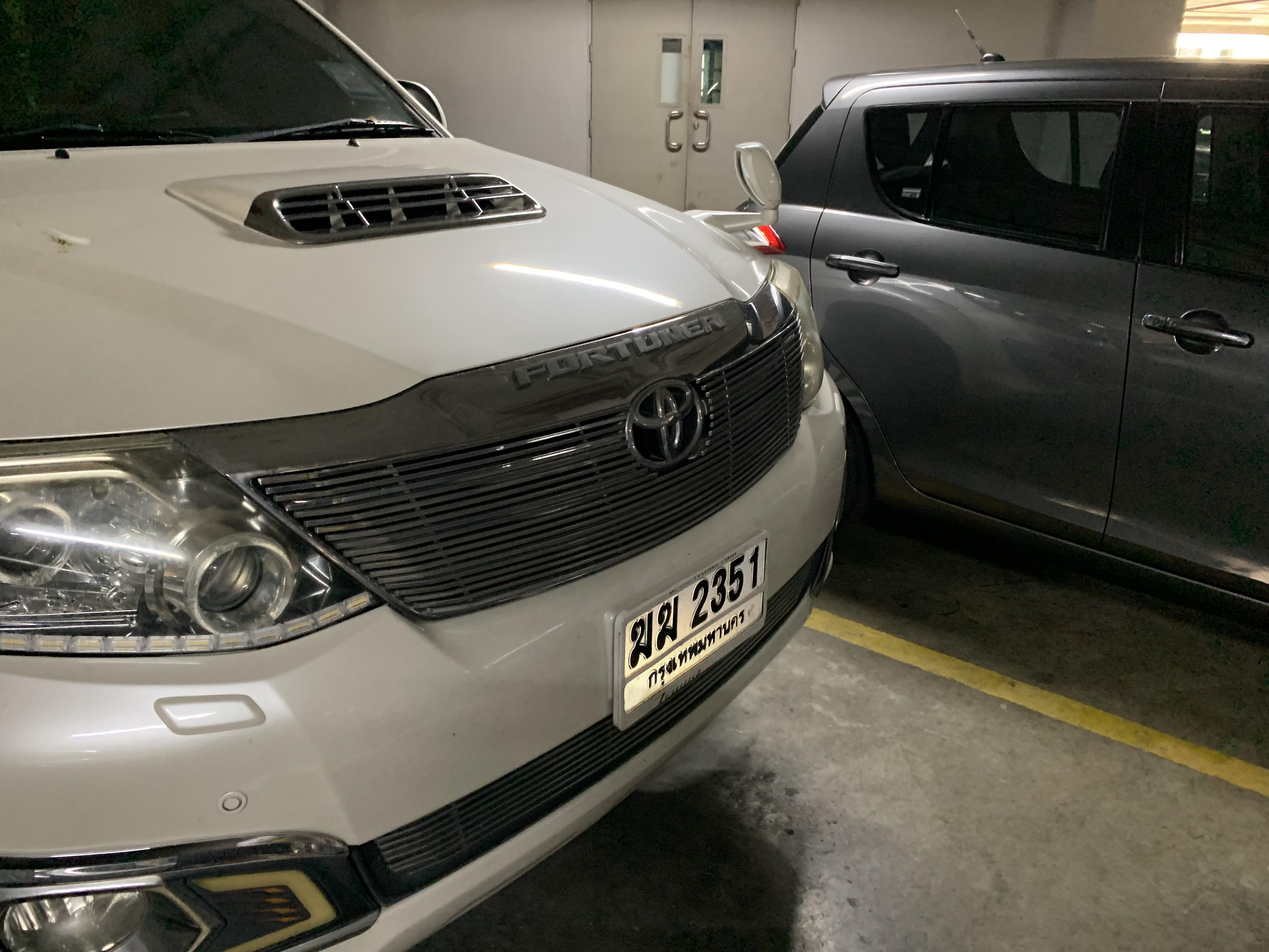license-plate: (609, 527, 773, 737)
